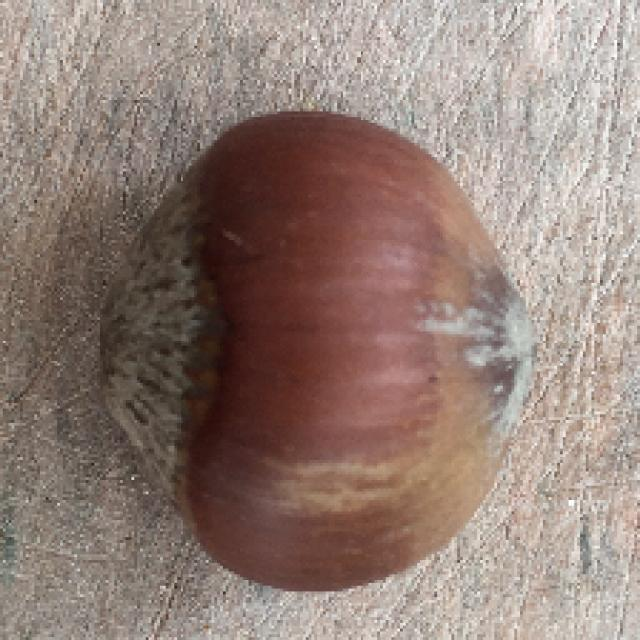qualityHazelnut: (101, 106, 537, 596)
